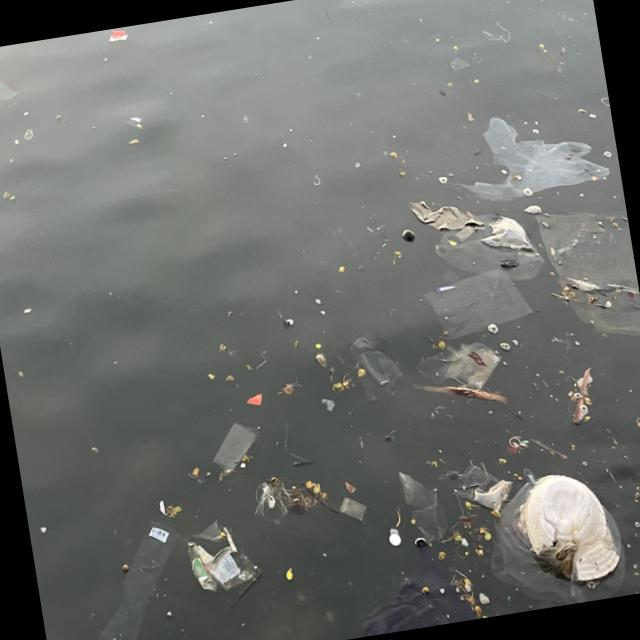foam: (519, 465, 621, 587)
plastic bag: (473, 114, 609, 203), (432, 208, 542, 280)
